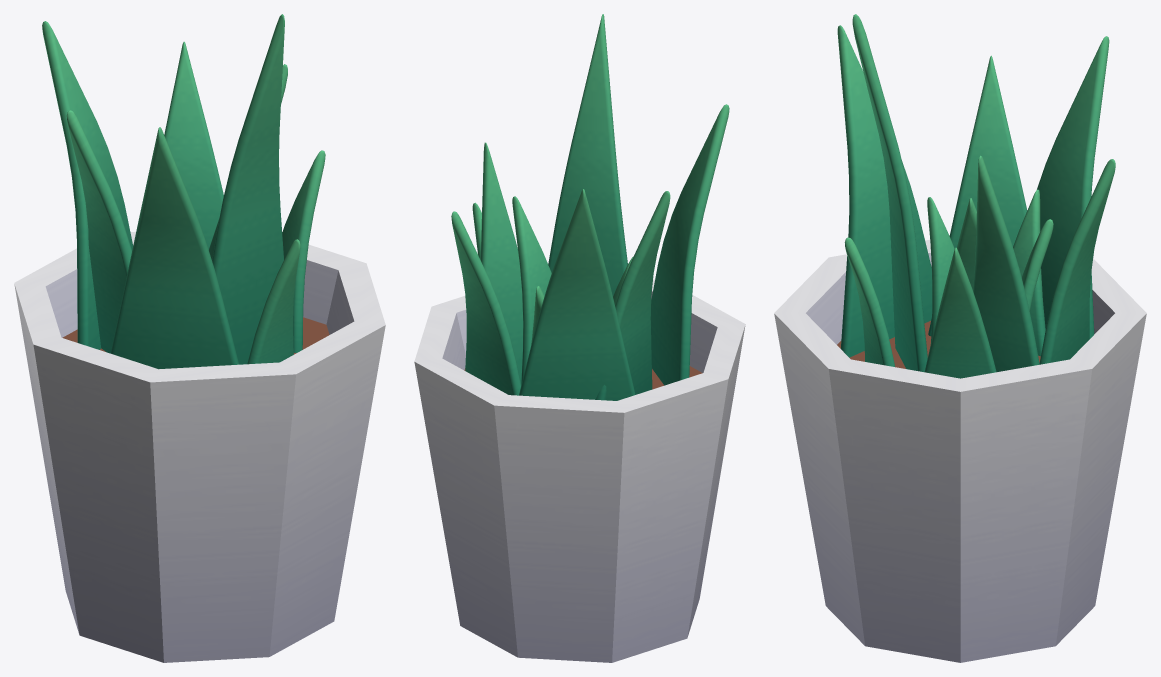
The model's file is potplant-2.fbx.
3 renders of one model, left to right at view 1: azimuth 30°, elevation 25°; view 2: azimuth 150°, elevation 25°; view 3: azimuth 270°, elevation 25°, orthographic. The views are drawn at different scales.
Parts seen in each view (by area): view 1: potplant-2; view 2: potplant-2; view 3: potplant-2.
Part boxes in pixels (x1,y1,x2,y2): potplant-2: (14, 14, 385, 662); potplant-2: (414, 14, 745, 662); potplant-2: (774, 14, 1146, 662).
Bounding box in the file's own units: 0.1549 × 0.1549 × 0.2776.
